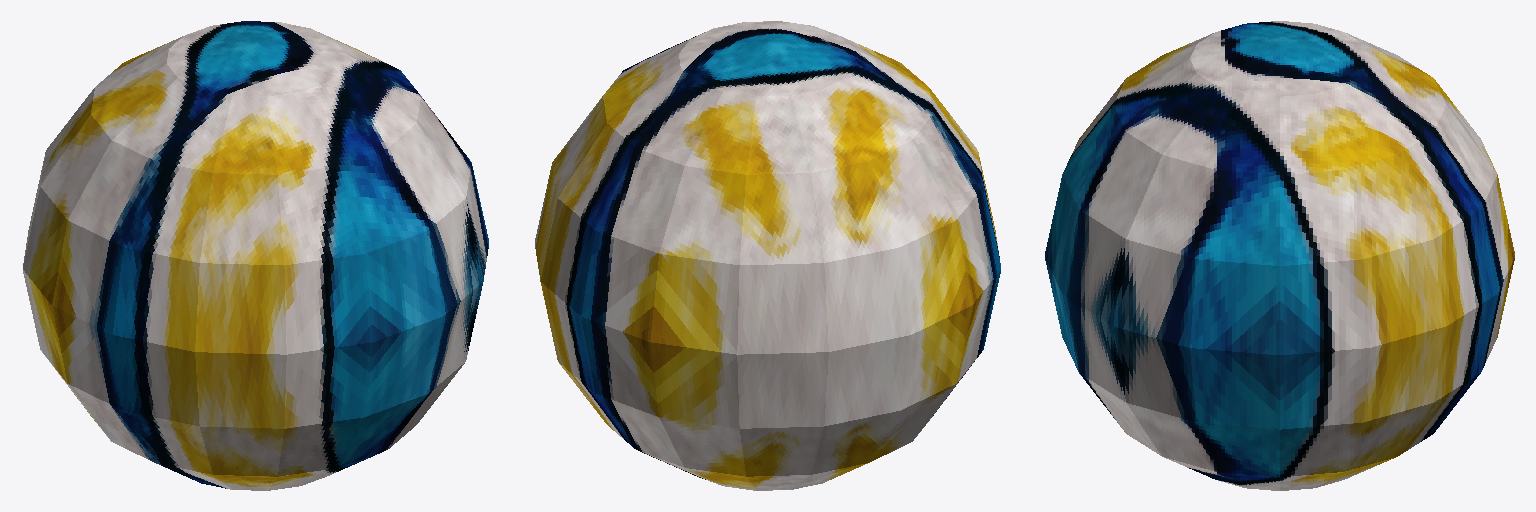
3 views of the same model, side by side, from view 1: azimuth 30°, elevation 25°; view 2: azimuth 150°, elevation 25°; view 3: azimuth 270°, elevation 25° (orthographic).
Visible parts, largest first — view 1: Sphere; view 2: Sphere; view 3: Sphere.
Part boxes in pixels (left/top/right/bottom): Sphere: left=23, top=21, right=488, bottom=490; Sphere: left=535, top=21, right=1000, bottom=490; Sphere: left=1045, top=21, right=1514, bottom=490.
Size of the model in its own units: 2 by 2 by 2.
1 materials, 1 textured.